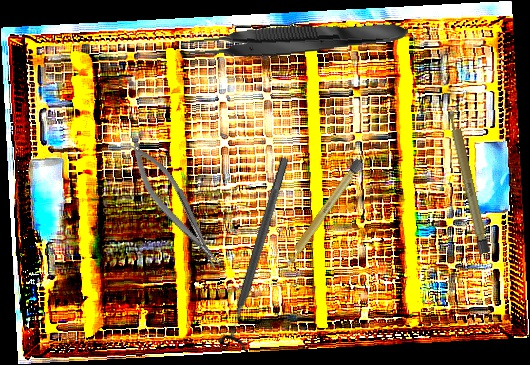Fixation Ring: (216, 154, 300, 351)
Needle Holder: (121, 134, 228, 278)
Scalpel Handle: (281, 156, 365, 270), (446, 108, 491, 255)
Tissue Forceps: (186, 16, 409, 64)
